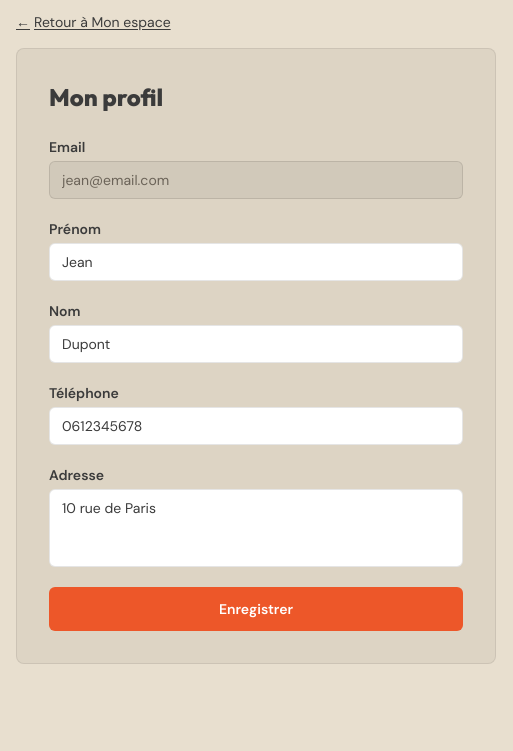
Test: Profile › affiche un message d'erreur après un échec 422
Click the button "Enregistrer". click: (256, 609)
box: x1=49 y1=587 x2=463 y2=631
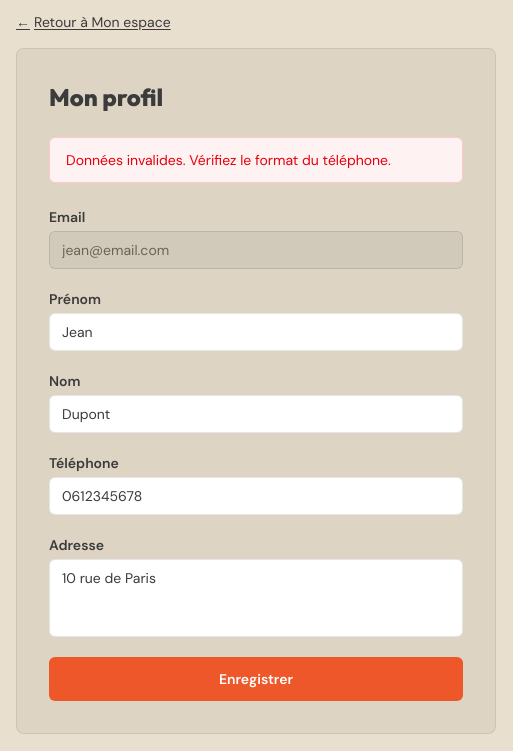
Expected: the message shows "format du téléphone", x1=66 y1=151 x2=391 y2=169
